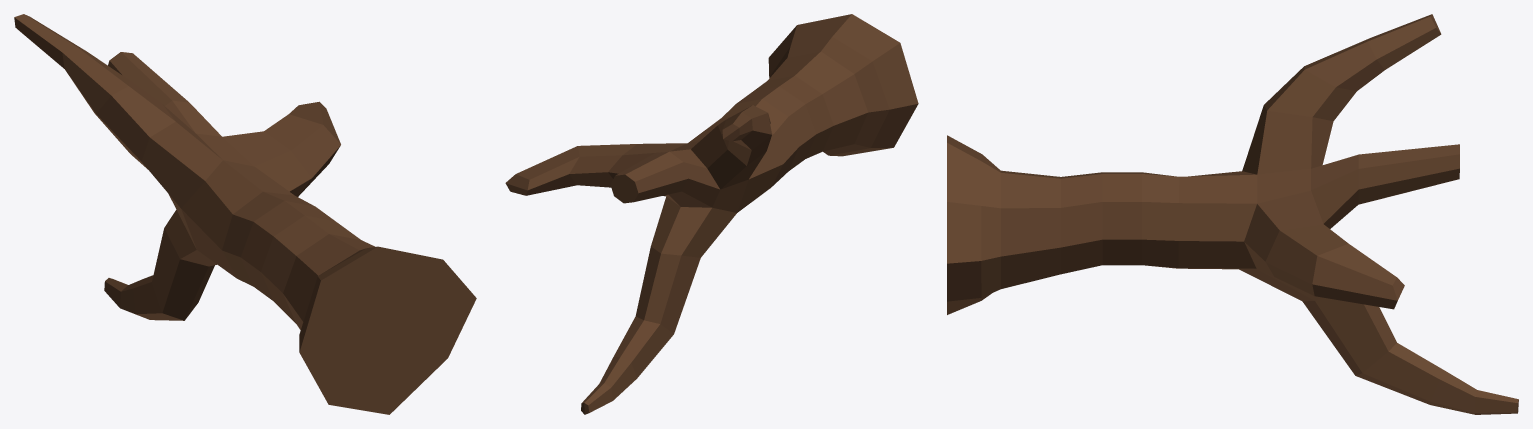
File: OakTree_7_X.fbx
The picture shows the model from 3 angles, left to right: view 1: azimuth 30°, elevation 25°; view 2: azimuth 150°, elevation 25°; view 3: azimuth 270°, elevation 25°; orthographic projection. The views are drawn at different scales.
Visible parts, largest first — view 1: OakTree_7_X; view 2: OakTree_7_X; view 3: OakTree_7_X.
Boxes of the visible parts, <box> form: OakTree_7_X: <box>14,14,476,414</box>; OakTree_7_X: <box>505,14,918,414</box>; OakTree_7_X: <box>947,14,1518,414</box>.
Size of the model in its own units: 264 by 296 by 454.
